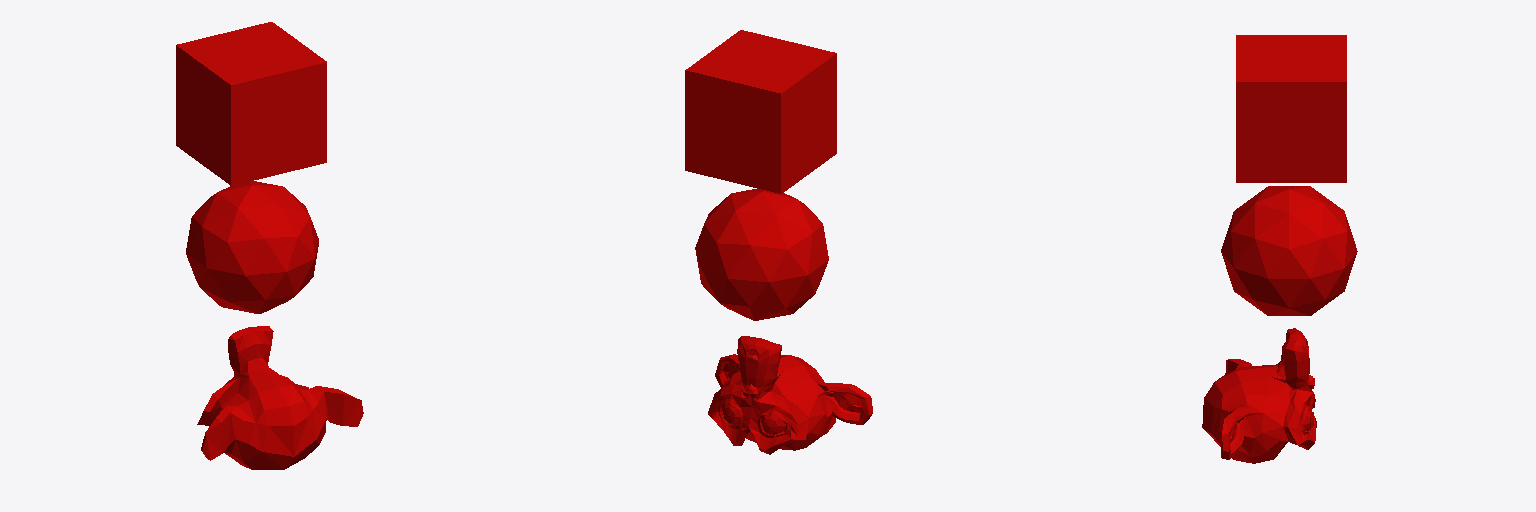
Rendered from spheres2.obj.
3 views of the same model, side by side, from view 1: azimuth 30°, elevation 25°; view 2: azimuth 150°, elevation 25°; view 3: azimuth 270°, elevation 25° (orthographic).
Visible parts, largest first — view 1: Icosphere; view 2: Icosphere; view 3: Icosphere.
Boxes of the visible parts, x1,y1,x2,y2 form: Icosphere: [176, 22, 363, 469]; Icosphere: [685, 30, 872, 454]; Icosphere: [1202, 35, 1357, 463].
Bounding box in the file's own units: 0.7421 × 1.77 × 0.6281.